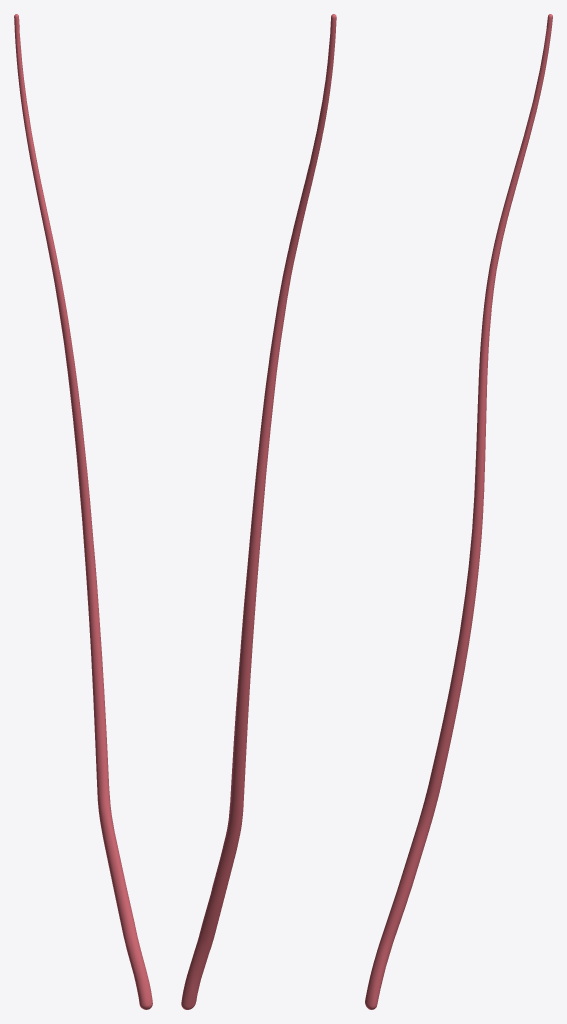
The model's file is fma66509_fj5044.glb.
3 renders of one model, left to right at view 1: azimuth 30°, elevation 25°; view 2: azimuth 210°, elevation 25°; view 3: azimuth 270°, elevation 25°, orthographic. The views are drawn at different scales.
Parts seen in each view (by area): view 1: FMA66509_FJ5044; view 2: FMA66509_FJ5044; view 3: FMA66509_FJ5044.
Part boxes in pixels (left/top/right/bottom): FMA66509_FJ5044: left=14, top=14, right=152, bottom=1009; FMA66509_FJ5044: left=181, top=14, right=336, bottom=1009; FMA66509_FJ5044: left=365, top=14, right=552, bottom=1009.
Bounding box in the file's own units: 0.00584 × 0.1019 × 0.0178.
